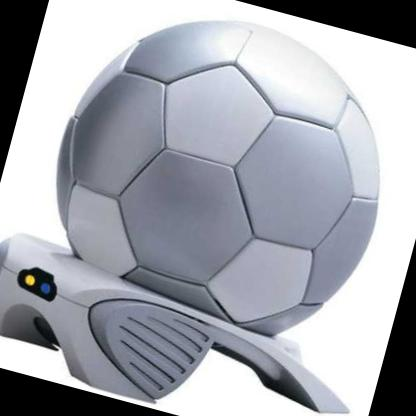ball: (27, 0, 416, 359)
